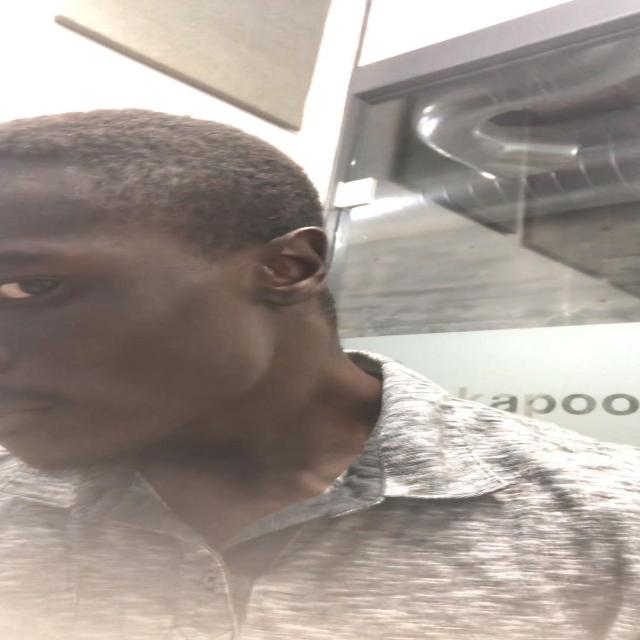face: (1, 176, 263, 474)
